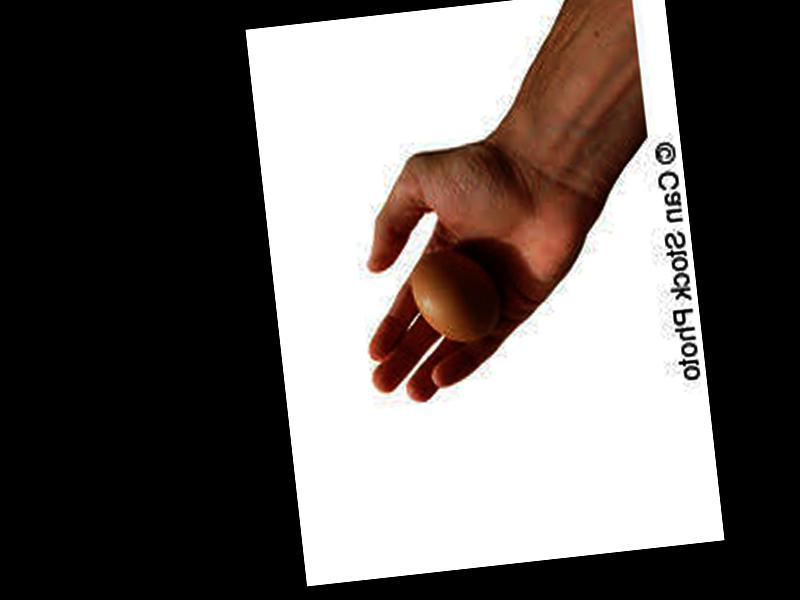Eggs: (411, 249, 503, 348)
